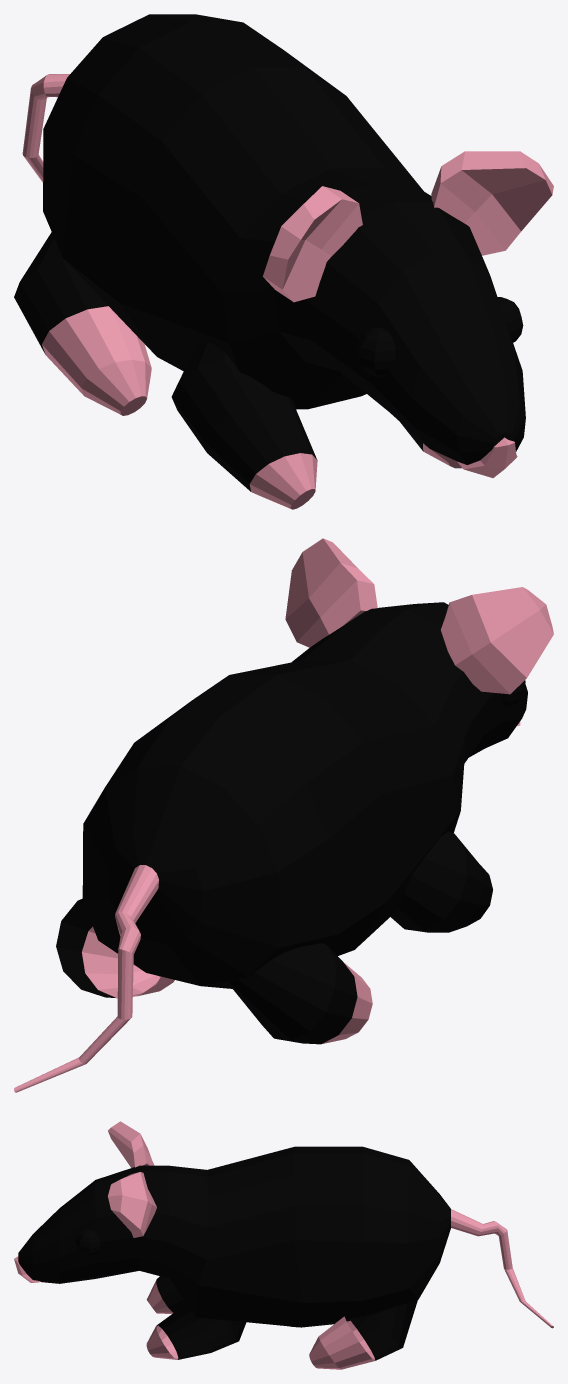
File: Pignon.fbx
The picture shows the model from 3 angles, top to bottom: view 1: azimuth 30°, elevation 25°; view 2: azimuth 150°, elevation 25°; view 3: azimuth 270°, elevation 25°; orthographic projection. The views are drawn at different scales.
Parts seen in each view (by area): view 1: Pignon, Legs, Ears, Eyes, Nose; view 2: Pignon, Legs, Ears; view 3: Pignon, Legs, Ears, Eyes.
Boxes of the visible parts, box(x1,y1,x2,y2) form: Pignon: box(22, 14, 525, 464); Legs: box(14, 232, 461, 509); Ears: box(263, 151, 553, 302); Eyes: box(356, 297, 523, 376); Nose: box(457, 437, 517, 477); Pignon: box(14, 602, 527, 1092); Legs: box(56, 831, 492, 1044); Ears: box(285, 538, 553, 694); Pignon: box(18, 1146, 553, 1328); Legs: box(146, 1276, 417, 1369); Ears: box(108, 1121, 156, 1237); Eyes: box(75, 1229, 100, 1256).
Size of the model in its own units: 132 by 147 by 378.
